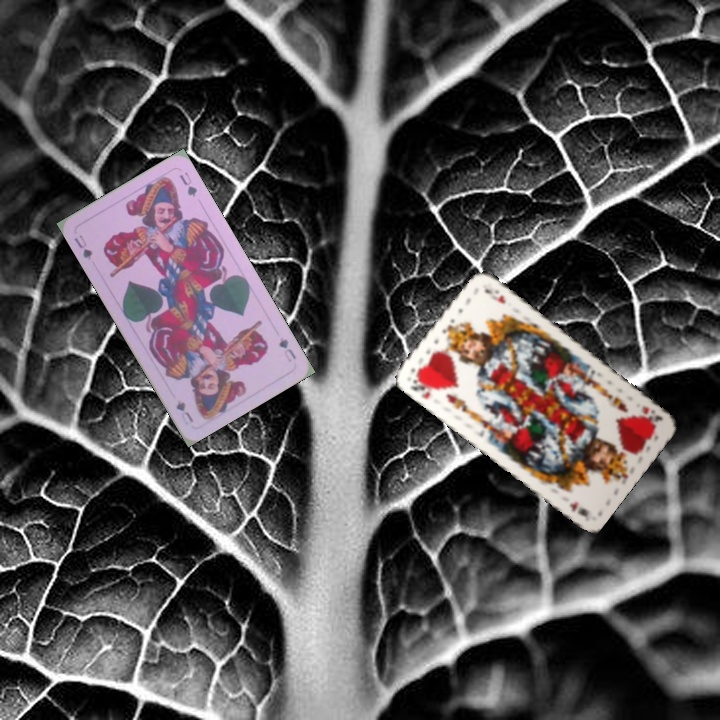GU: (70, 231, 95, 263), (275, 333, 299, 365)
HK: (406, 371, 435, 402), (636, 402, 665, 429)
